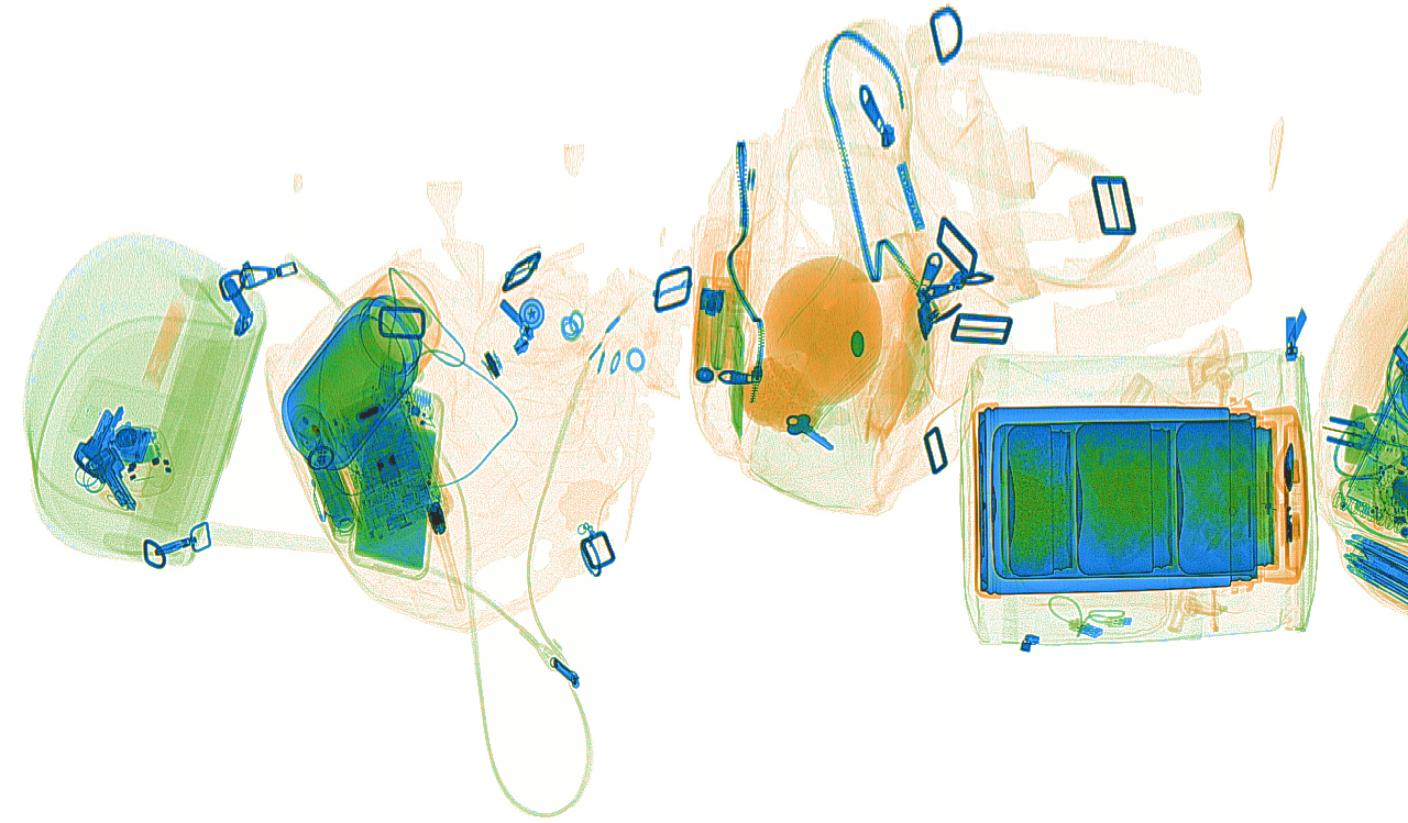battery: (306, 453, 356, 529)
